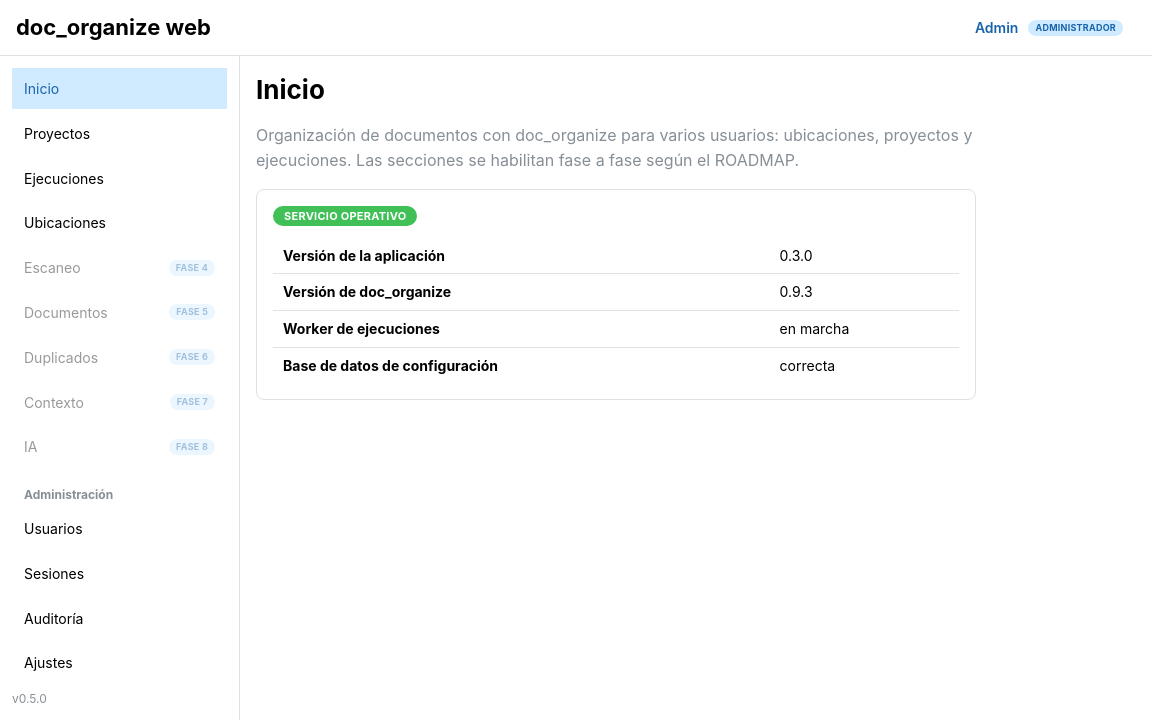
Test: menú de usuario › cierra sesión con la cabecera CSRF de la cookie
Click the button with aria-label "Menú de usuario de Admin": (1046, 28) [956, 10, 1136, 46]
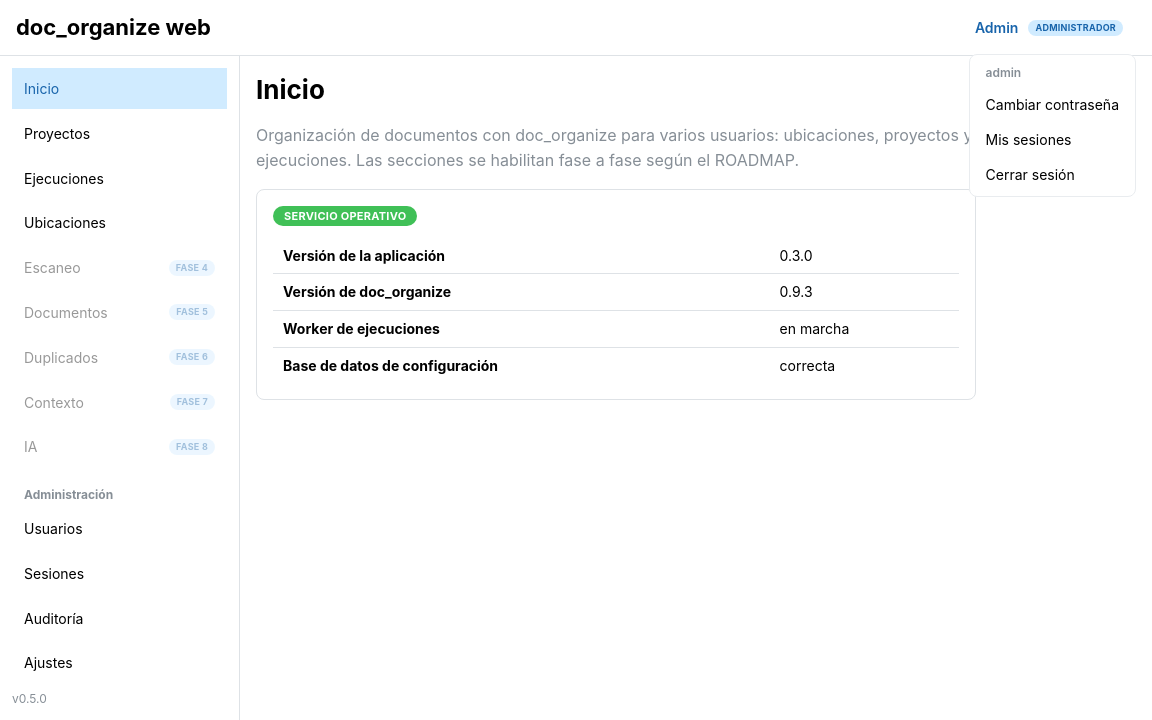
Click the menu item "Cerrar sesión": (1052, 175) [974, 157, 1131, 192]
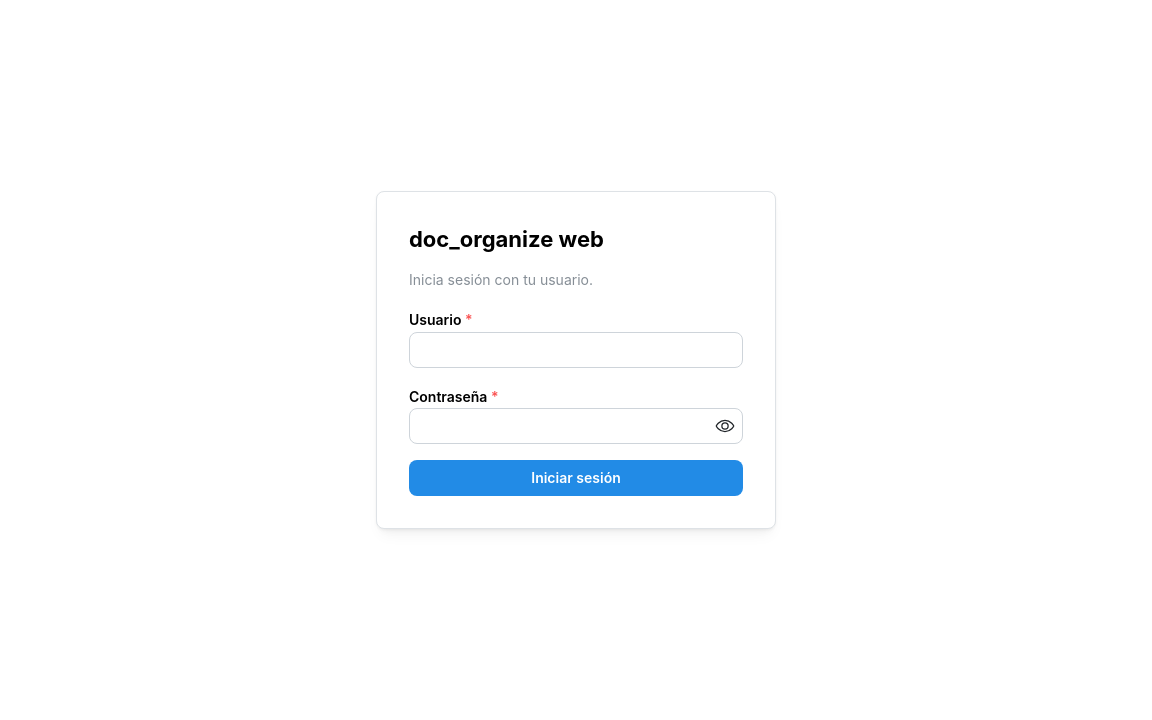
Expected: the button "Iniciar sesión" is shown, [409, 460, 743, 496]
